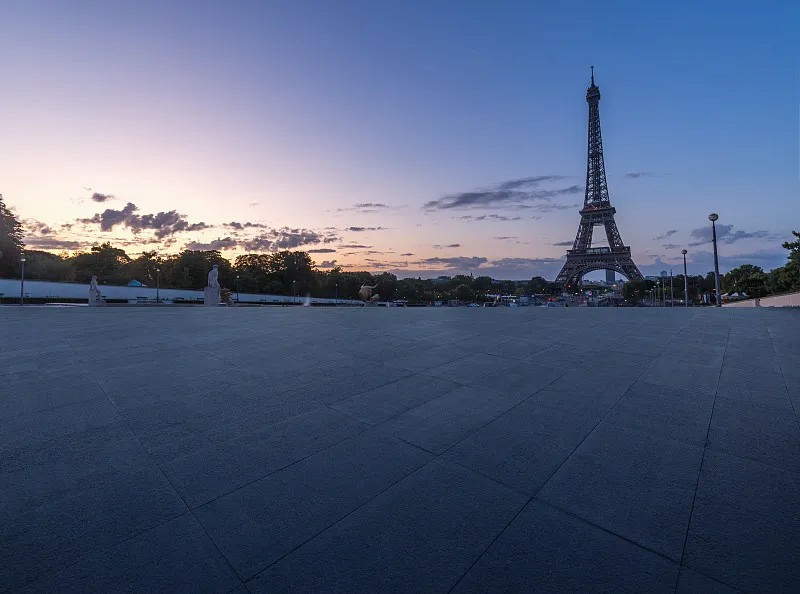Eiffel: (554, 66, 643, 293)
